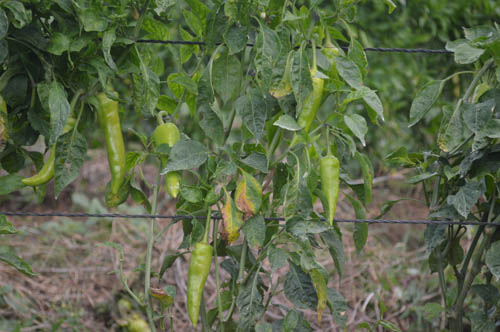ChiliPepper: (22, 119, 76, 184), (99, 93, 129, 200), (289, 72, 328, 154), (188, 239, 215, 331), (154, 123, 183, 195), (320, 153, 342, 223)
